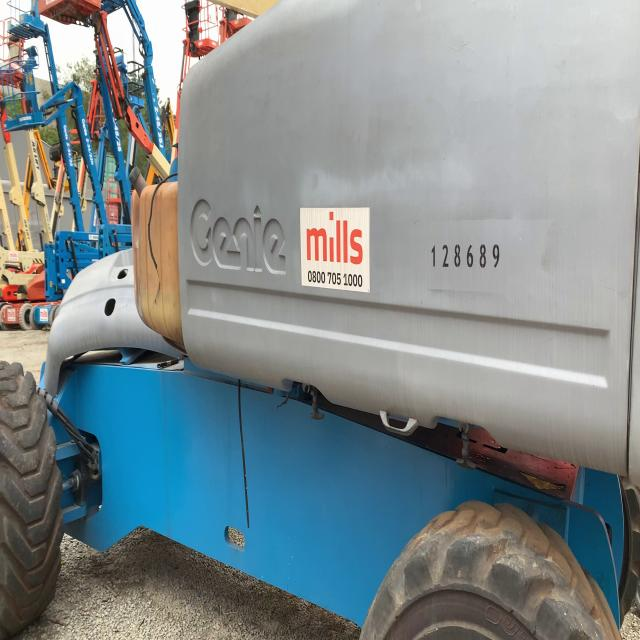Adesivos: (298, 205, 371, 294)
